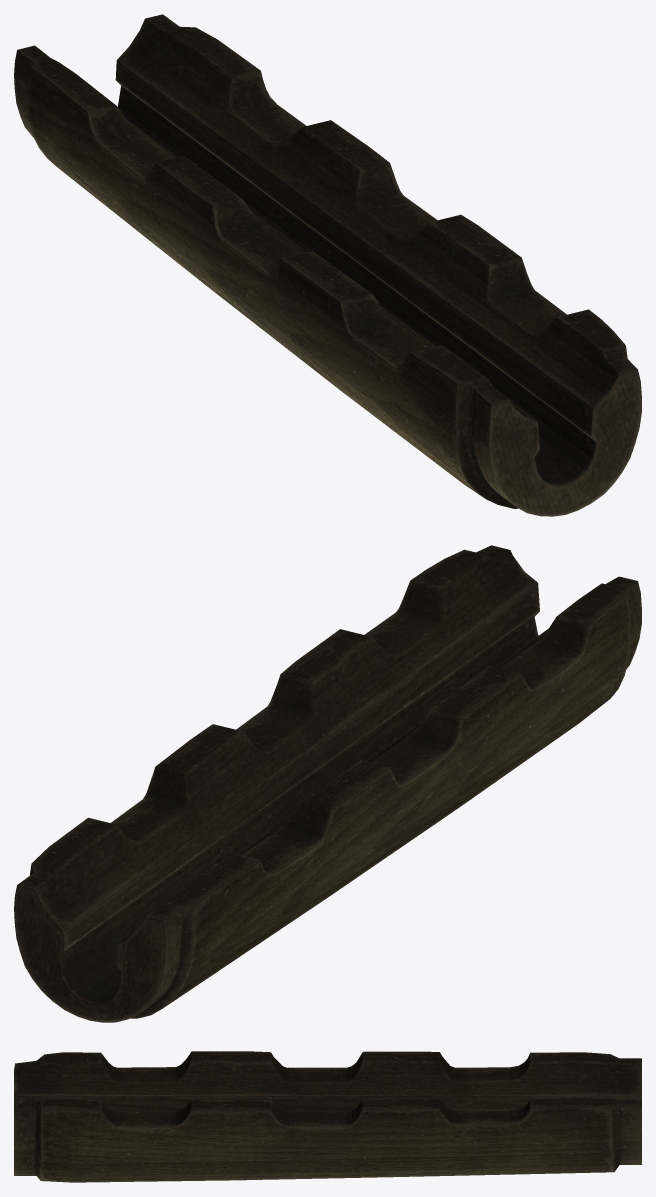
The picture shows the model from 3 angles, top to bottom: view 1: azimuth 30°, elevation 25°; view 2: azimuth 150°, elevation 25°; view 3: azimuth 270°, elevation 25°; orthographic projection. The views are drawn at different scales.
Parts seen in each view (by area): view 1: TW_634f03d40384a3ba4f06f874_PZ_Import; view 2: TW_634f03d40384a3ba4f06f874_PZ_Import; view 3: TW_634f03d40384a3ba4f06f874_PZ_Import.
Part boxes in pixels (x1=…): TW_634f03d40384a3ba4f06f874_PZ_Import: x1=14, y1=14, x2=641, y2=516; TW_634f03d40384a3ba4f06f874_PZ_Import: x1=14, y1=545, x2=641, y2=1022; TW_634f03d40384a3ba4f06f874_PZ_Import: x1=14, y1=1051, x2=641, y2=1182.
Bounding box in the file's own units: 0.0191 × 0.0849 × 0.0143.
Materials: 1 (1 with a texture image).
